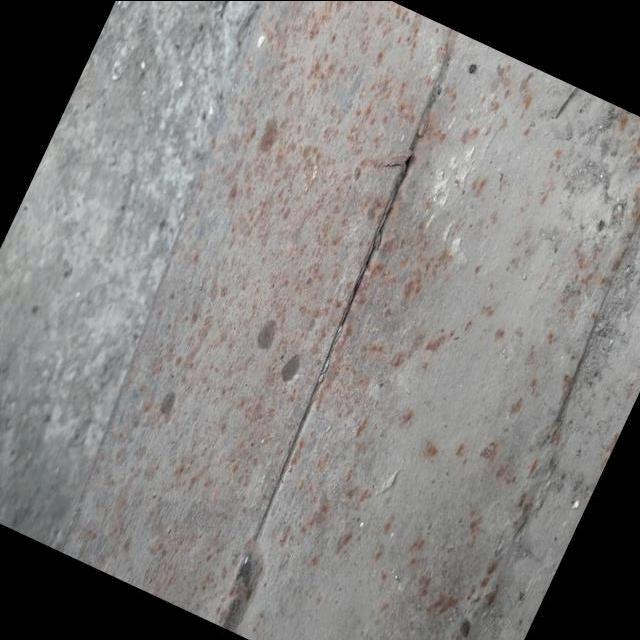defect: (327, 136, 420, 351)
